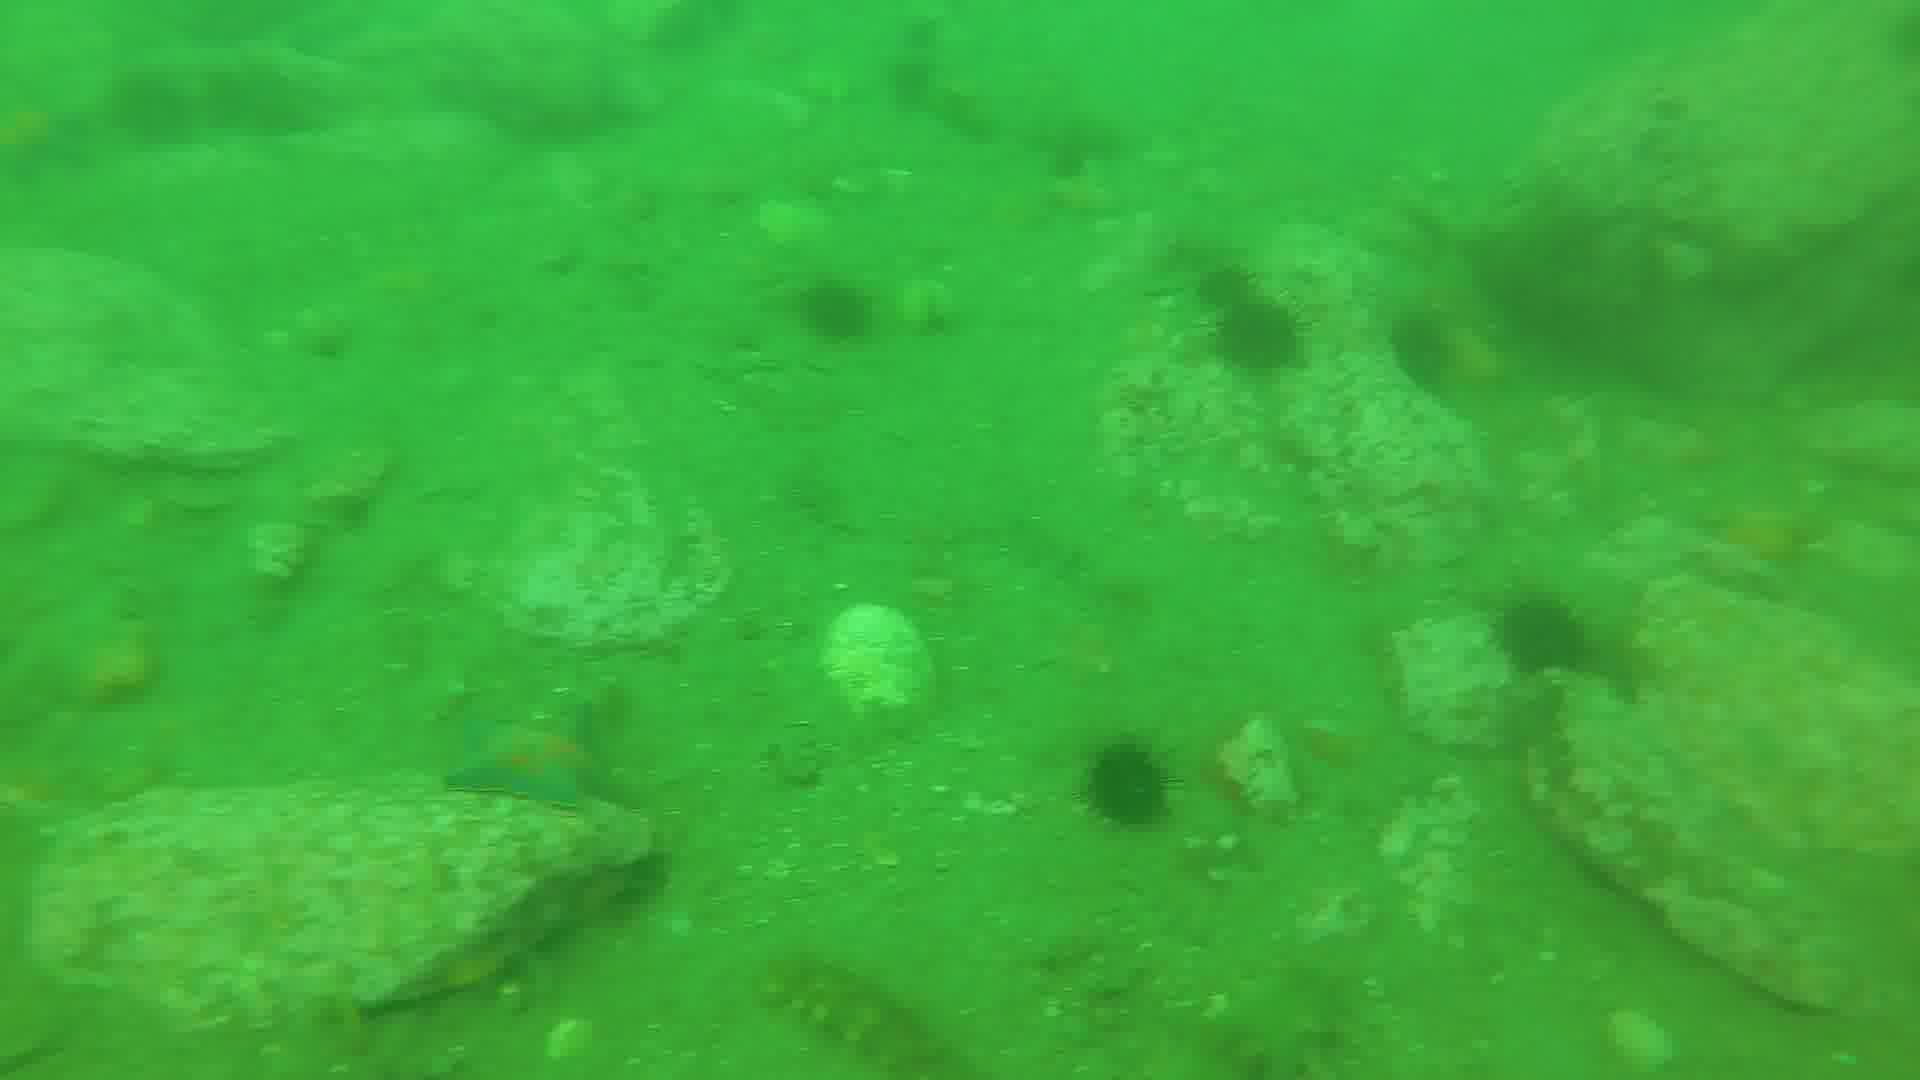echinus: (1083, 735, 1172, 836), (1499, 597, 1578, 684), (1222, 301, 1298, 373), (808, 285, 880, 344)
holothurian: (757, 939, 985, 1080)
starfish: (444, 711, 645, 815)
